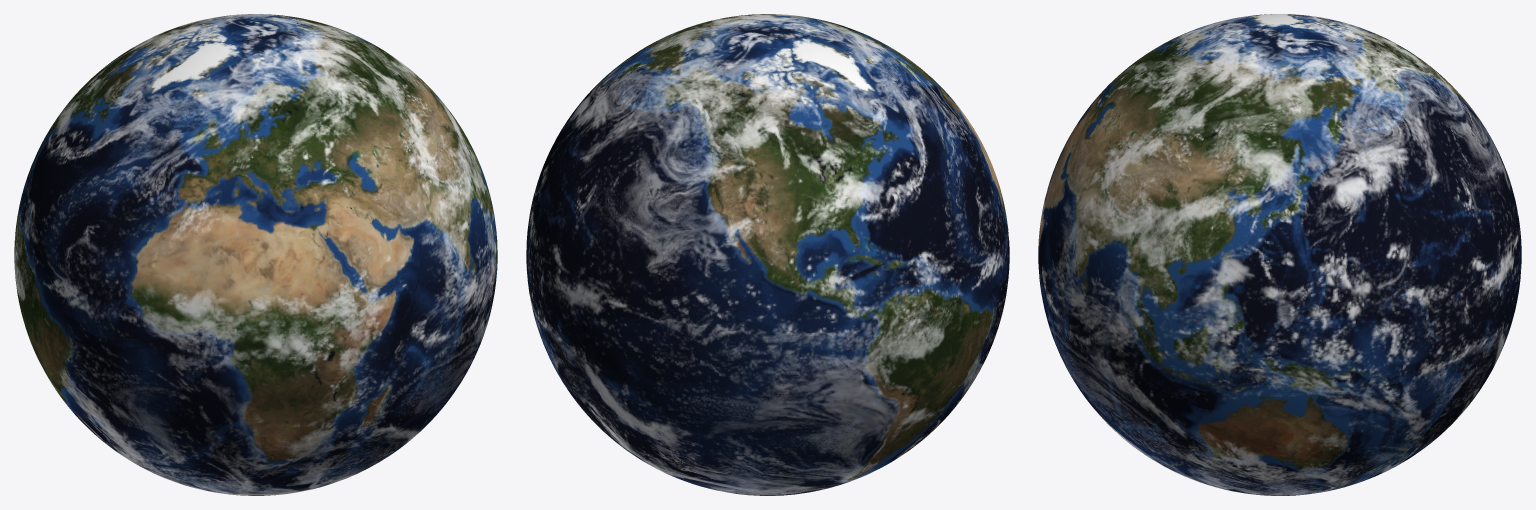
Rendered from earth.glb.
The picture shows the model from 3 angles, left to right: view 1: azimuth 30°, elevation 25°; view 2: azimuth 150°, elevation 25°; view 3: azimuth 270°, elevation 25°; orthographic projection.
Parts seen in each view (by area): view 1: Body; view 2: Body; view 3: Body.
Boxes of the visible parts, x1,y1,x2,y2 form: Body: (14,14,497,495); Body: (526,14,1009,495); Body: (1038,14,1521,495).
Bounding box in the file's own units: 2 × 1.99 × 2.
Materials: 1 (1 with a texture image).
